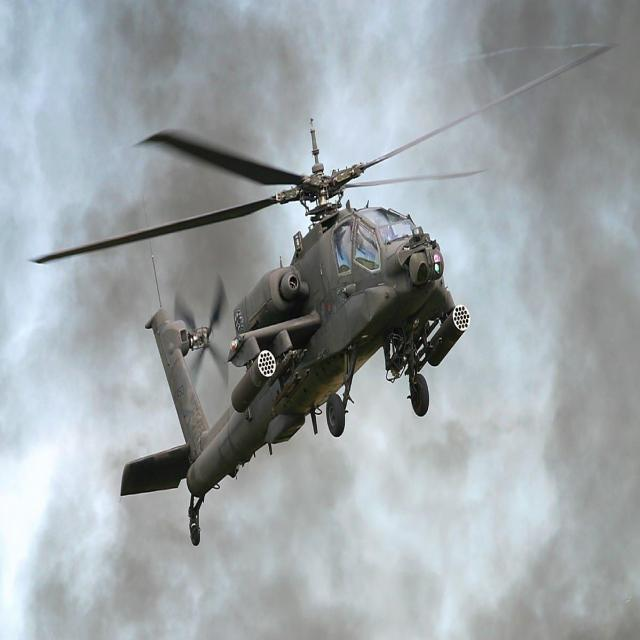MIL_HELO: (16, 72, 637, 530)
